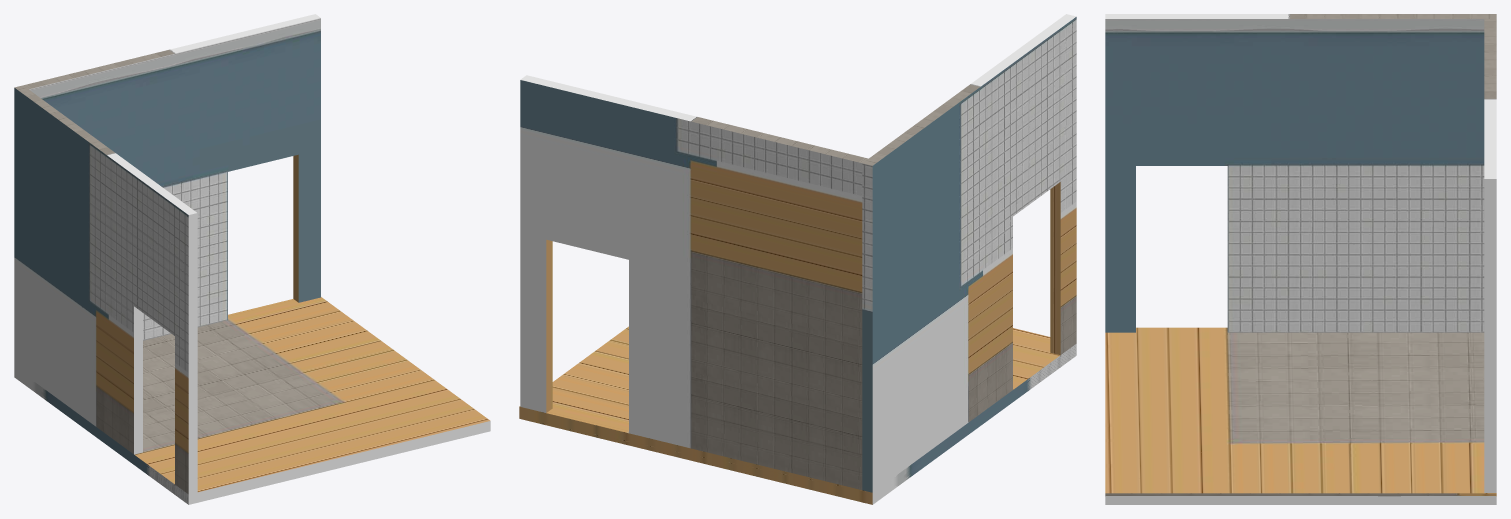
File: Kitchen.fbx
The picture shows the model from 3 angles, left to right: view 1: azimuth 30°, elevation 25°; view 2: azimuth 150°, elevation 25°; view 3: azimuth 270°, elevation 25°; orthographic projection. The views are drawn at different scales.
Visible parts, largest first — view 1: left_foor_pCube4, pCube1, left_foor_pCube3; view 2: left_foor_pCube3, left_foor_pCube4, pCube1; view 3: left_foor_pCube4, pCube1, left_foor_pCube3.
Boxes of the visible parts, box(x1,y1,x2,y2) form: left_foor_pCube4: box(14, 85, 197, 494); pCube1: box(14, 297, 490, 504); left_foor_pCube3: box(23, 14, 320, 340); left_foor_pCube3: box(520, 75, 868, 489); left_foor_pCube4: box(862, 14, 1076, 492); pCube1: box(519, 326, 1076, 504); left_foor_pCube4: box(1105, 14, 1496, 332); pCube1: box(1105, 327, 1496, 504); left_foor_pCube3: box(1484, 19, 1496, 492).
Size of the model in its own units: 110 by 101 by 110.
3 materials, 3 textured.
